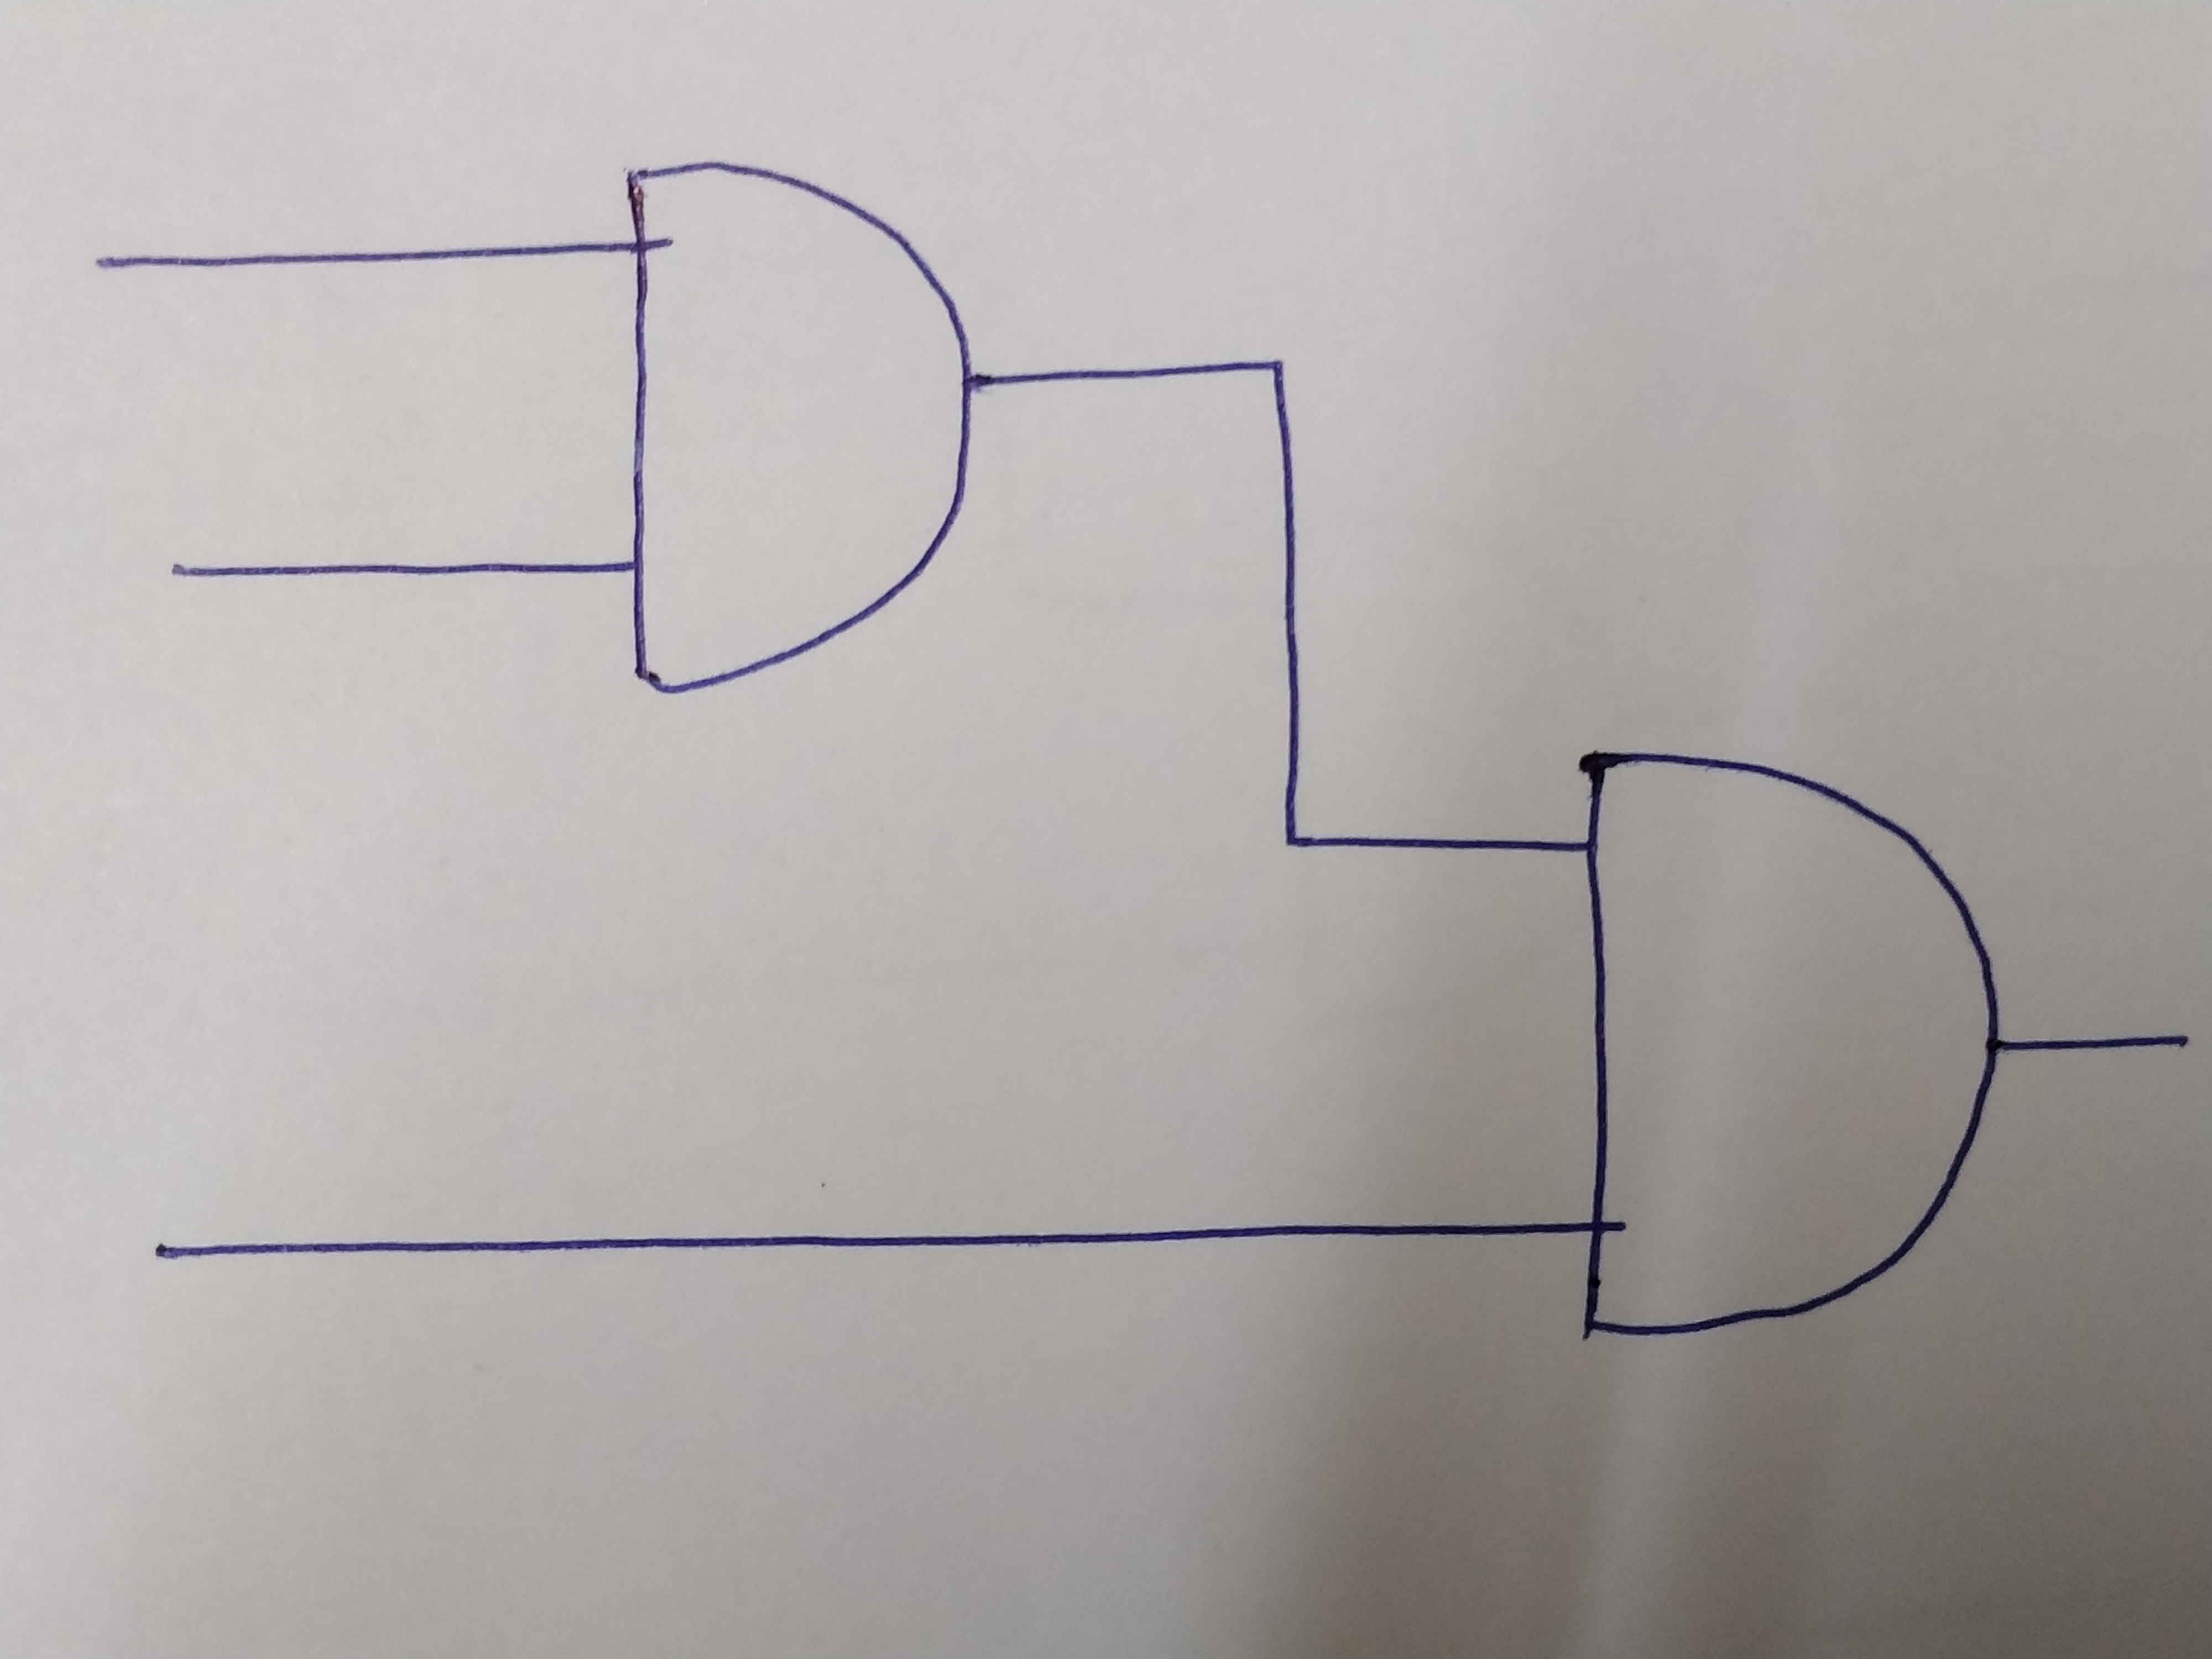and: (1583, 751, 2000, 1347), (624, 159, 963, 690)
